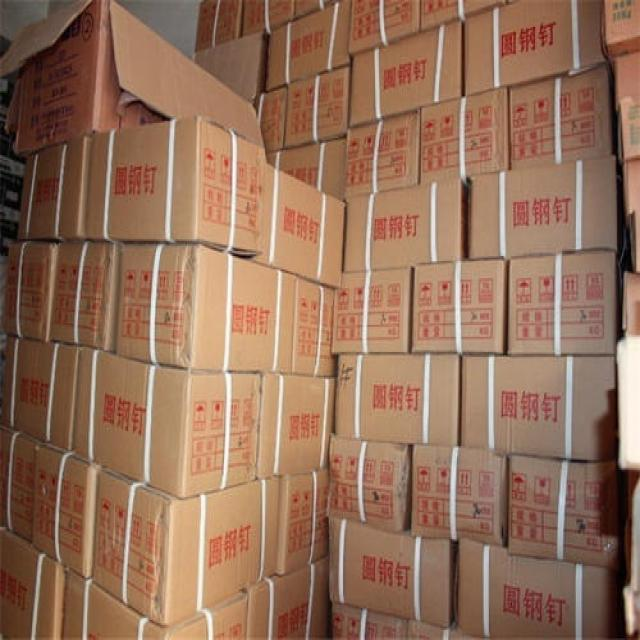box: (0, 0, 266, 157), (91, 465, 279, 628), (70, 349, 262, 499), (84, 113, 265, 261), (115, 243, 297, 374), (468, 157, 622, 264), (458, 539, 620, 640), (461, 357, 617, 461), (326, 515, 458, 628), (462, 0, 609, 98), (60, 569, 248, 640), (506, 455, 621, 568), (348, 20, 463, 128), (252, 162, 347, 290), (333, 354, 462, 448), (340, 177, 468, 271), (509, 62, 618, 172), (507, 251, 621, 355), (411, 445, 507, 547), (0, 333, 78, 456), (412, 261, 508, 355), (32, 445, 99, 579), (420, 86, 511, 184), (257, 374, 337, 480), (325, 436, 412, 532), (46, 241, 119, 355), (265, 0, 352, 93), (15, 135, 88, 244), (0, 525, 67, 640), (247, 556, 333, 640), (332, 268, 412, 355), (346, 109, 420, 199), (276, 468, 330, 578), (283, 66, 355, 148), (265, 136, 347, 204), (192, 30, 269, 101), (5, 243, 55, 342), (293, 278, 337, 379), (0, 424, 36, 547), (351, 0, 421, 57), (241, 0, 340, 37), (420, 0, 520, 34), (612, 51, 640, 163), (332, 603, 410, 640), (195, 0, 243, 54), (603, 0, 640, 61), (252, 86, 285, 152), (407, 618, 490, 640)
